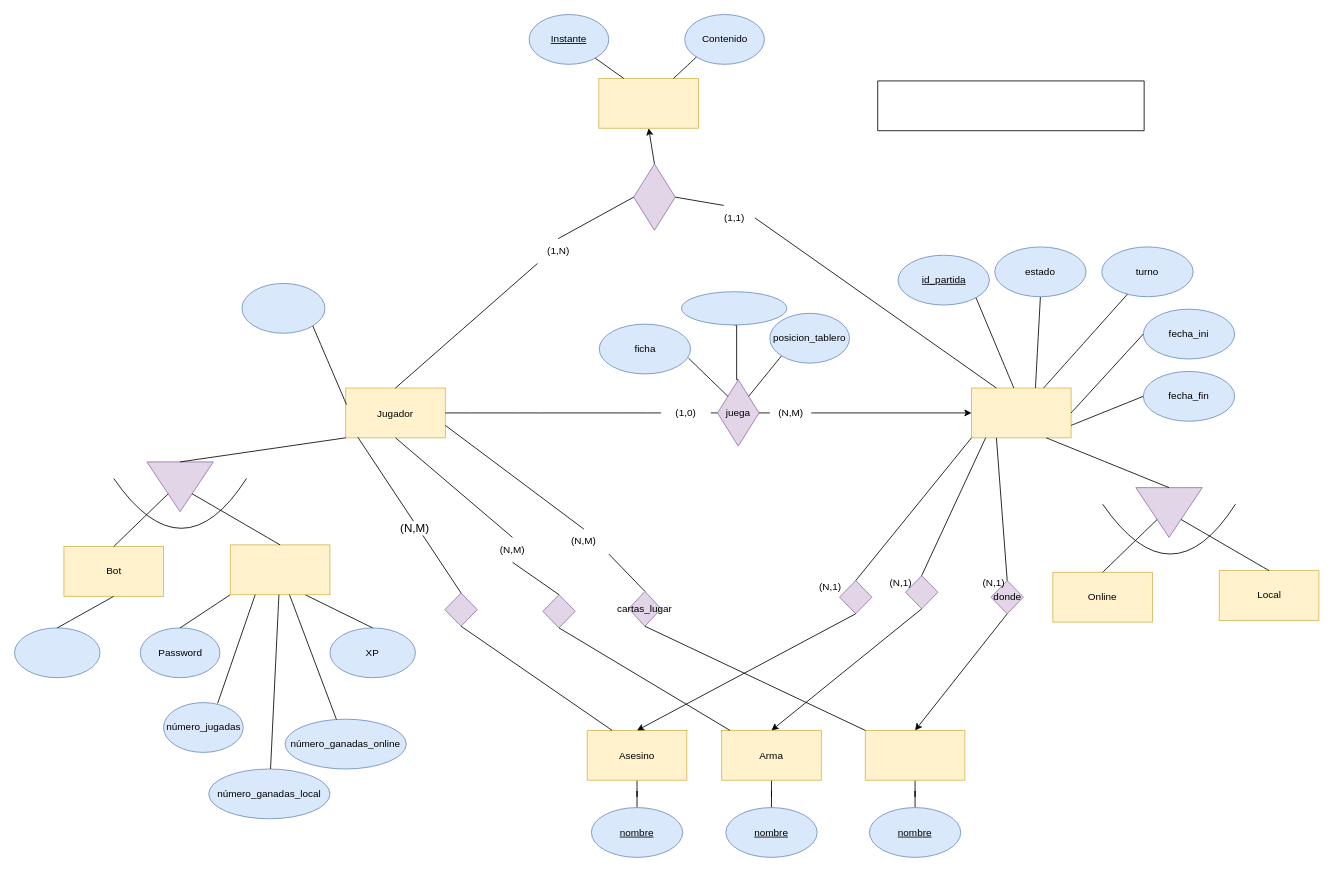
Image size: 1334x872. Some labels were removed from this diagram. Each missing label, with the centre of its shape:
"cartas_arma" belongs at [558,611].
"cartas_asesino" belongs at [460,609].
"con que" belongs at [921,592].
"Conversación" belongs at [648,103].
"Lugar" belongs at [914,755].
"nivel_dificultad" belongs at [57,652].
"Partida" belongs at [1021,412].
"quien" belongs at [855,597].
"Restriccion de Ficha: Solo pueden ser los nombres de los presonajes determinados" belongs at [1010,105].
"sospechas" belongs at [734,308].
"Tiene" belongs at [654,196].
"userName" belongs at [283,308].
"Usuario" belongs at [279,569].
